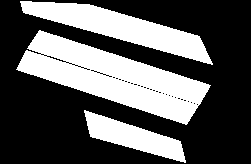parkingspot: (27, 30, 210, 104), (16, 50, 198, 124), (20, 1, 212, 64), (84, 110, 185, 162)
